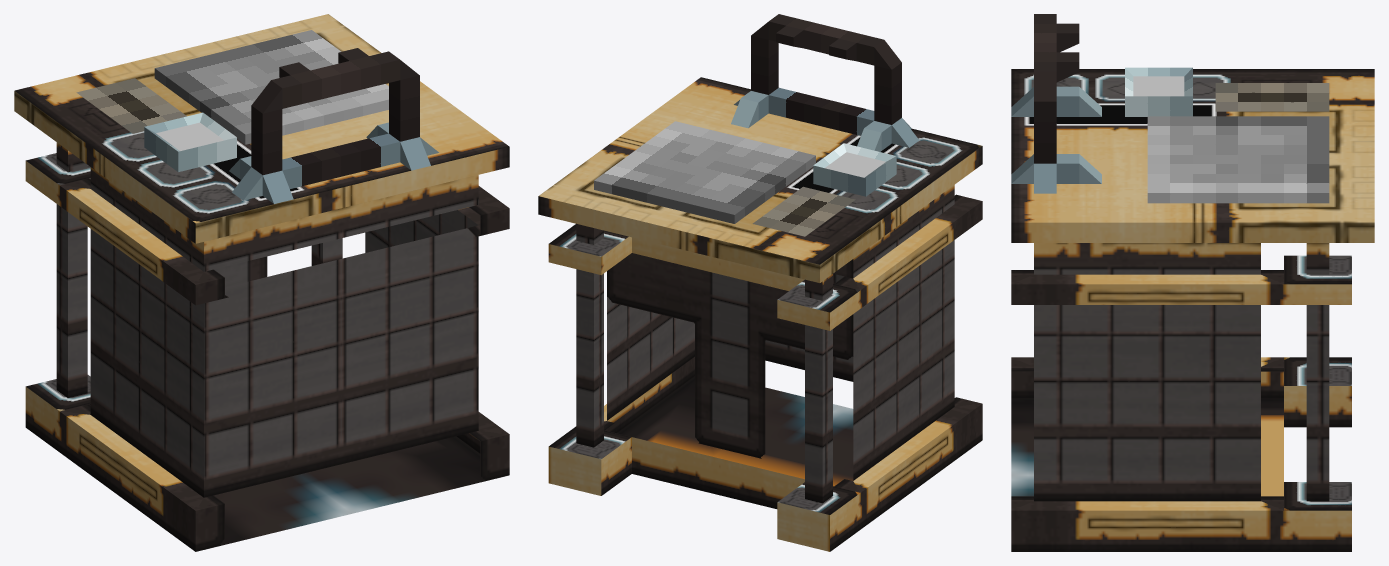
Rendered from station_runescribing_inventory.obj.
3 renders of one model, left to right at view 1: azimuth 30°, elevation 25°; view 2: azimuth 150°, elevation 25°; view 3: azimuth 270°, elevation 25°, orthographic. The views are drawn at different scales.
Visible parts, largest first — view 1: DESK_SINGLE_MAIN.006, RUNESCRIBING_MAIN_Cube.008, RUNESCRIBING_PATTERN_Plane, RUNESCRIBING_WATER_Cube.013; view 2: DESK_SINGLE_MAIN.006, RUNESCRIBING_MAIN_Cube.008, RUNESCRIBING_PATTERN_Plane, RUNESCRIBING_WATER_Cube.013; view 3: DESK_SINGLE_MAIN.006, RUNESCRIBING_MAIN_Cube.008, RUNESCRIBING_PATTERN_Plane, RUNESCRIBING_WATER_Cube.013.
Boxes of the visible parts, x1=… form: DESK_SINGLE_MAIN.006: x1=14, y1=14, x2=509, y2=551; RUNESCRIBING_MAIN_Cube.008: x1=144, y1=30, x2=438, y2=203; RUNESCRIBING_PATTERN_Plane: x1=76, y1=78, x2=186, y2=133; RUNESCRIBING_WATER_Cube.013: x1=156, y1=122, x2=223, y2=150; DESK_SINGLE_MAIN.006: x1=538, y1=77, x2=982, y2=551; RUNESCRIBING_MAIN_Cube.008: x1=594, y1=14, x2=919, y2=223; RUNESCRIBING_PATTERN_Plane: x1=752, y1=186, x2=855, y2=236; RUNESCRIBING_WATER_Cube.013: x1=825, y1=152, x2=885, y2=177; DESK_SINGLE_MAIN.006: x1=1011, y1=69, x2=1374, y2=551; RUNESCRIBING_MAIN_Cube.008: x1=1011, y1=14, x2=1329, y2=203; RUNESCRIBING_PATTERN_Plane: x1=1215, y1=83, x2=1329, y2=111; RUNESCRIBING_WATER_Cube.013: x1=1133, y1=76, x2=1184, y2=96.
Bounding box in the file's own units: 1 × 1.31 × 1.
